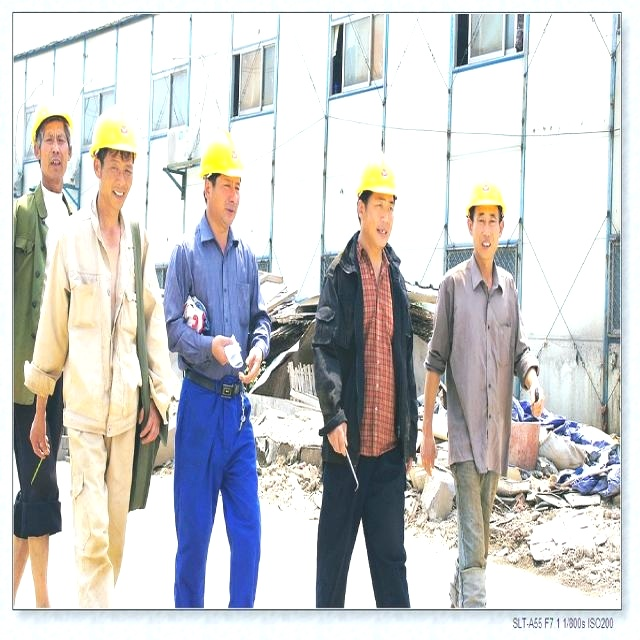Con_Casco: (200, 128, 244, 227), (355, 150, 399, 246)
